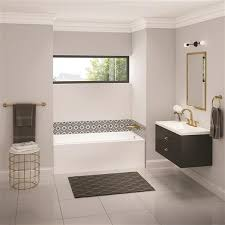bathub: (51, 125, 150, 173)
